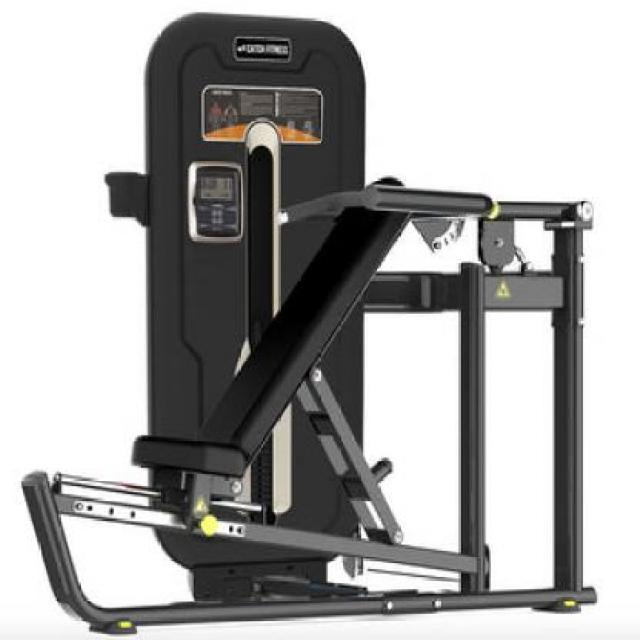shoulder press machine: (12, 0, 636, 640)
